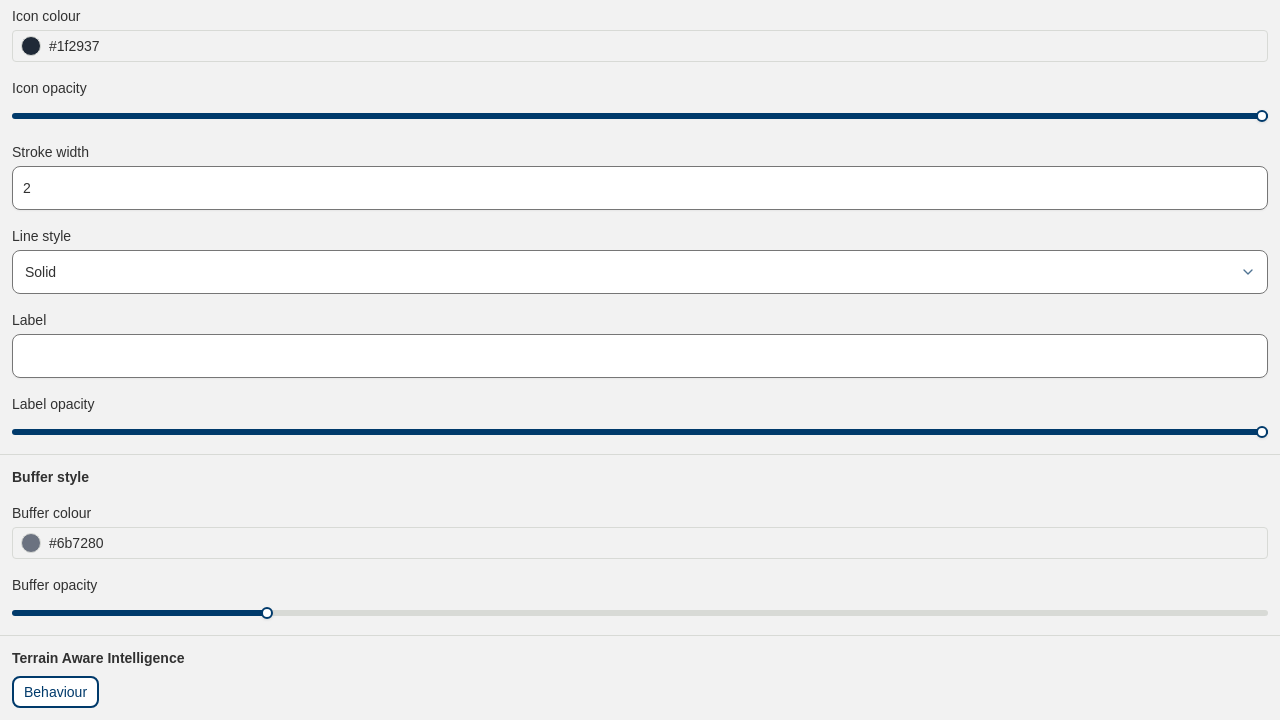
Test case: StyleEditorPanel › shows a Behaviour button for a selected layer too
The image size is (1280, 720).
(page scrolled)
Click the button "Behaviour": (56, 692) [12, 676, 99, 708]
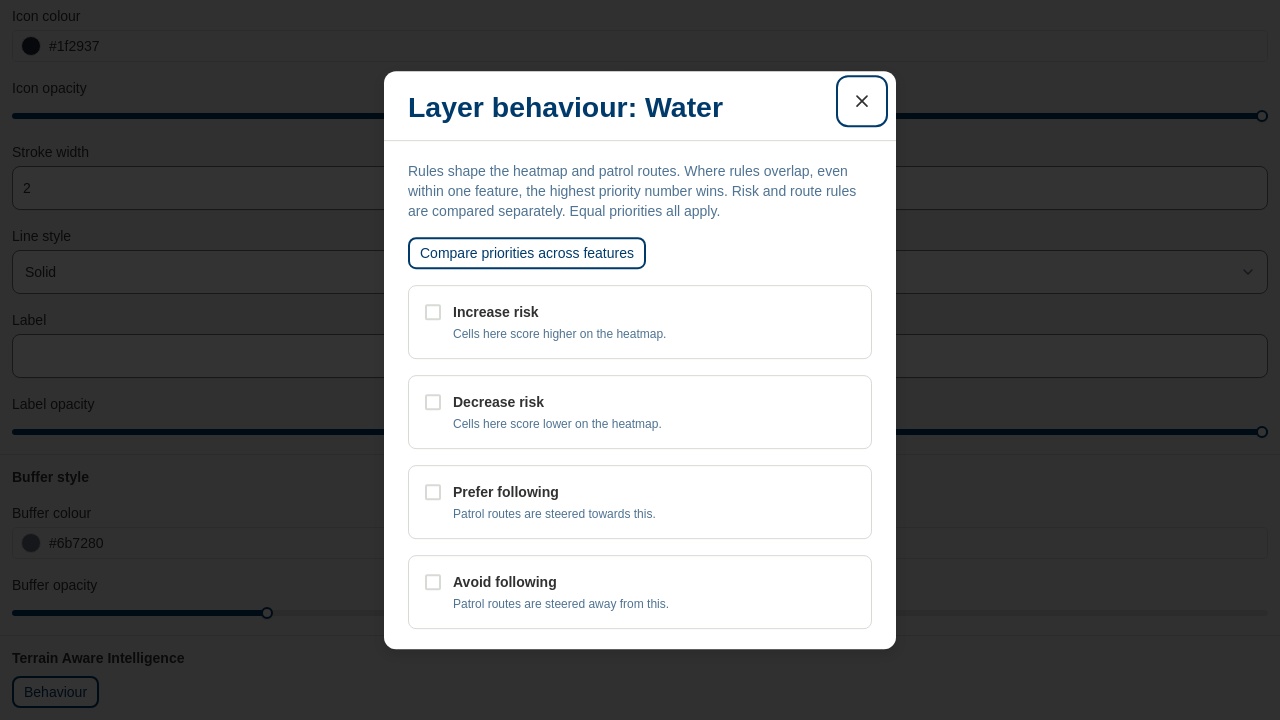
Result: the dialog is shown at [384, 71, 896, 649]
